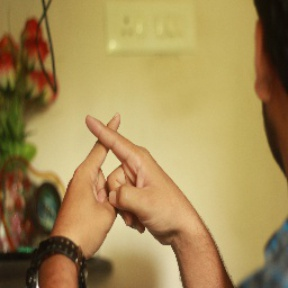X: (56, 94, 168, 202)
